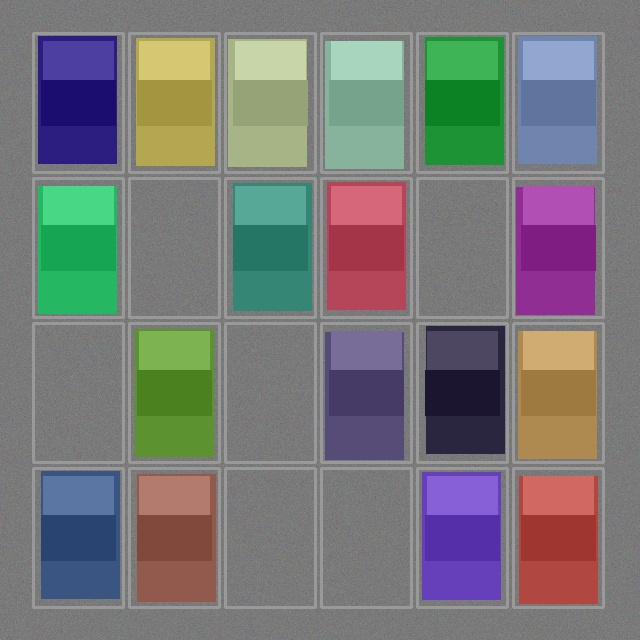space-empty: (131, 180, 217, 315), (419, 180, 505, 315), (35, 325, 121, 460), (227, 325, 313, 460), (227, 470, 313, 605), (323, 470, 409, 605)
space-occupied: (35, 35, 121, 170), (131, 35, 217, 170), (227, 35, 313, 170), (323, 35, 409, 170), (419, 35, 505, 170), (515, 35, 601, 170), (35, 180, 121, 315), (227, 180, 313, 315), (323, 180, 409, 315), (515, 180, 601, 315), (131, 325, 217, 460), (323, 325, 409, 460), (419, 325, 505, 460), (515, 325, 601, 460), (35, 470, 121, 605), (131, 470, 217, 605), (419, 470, 505, 605), (515, 470, 601, 605)
